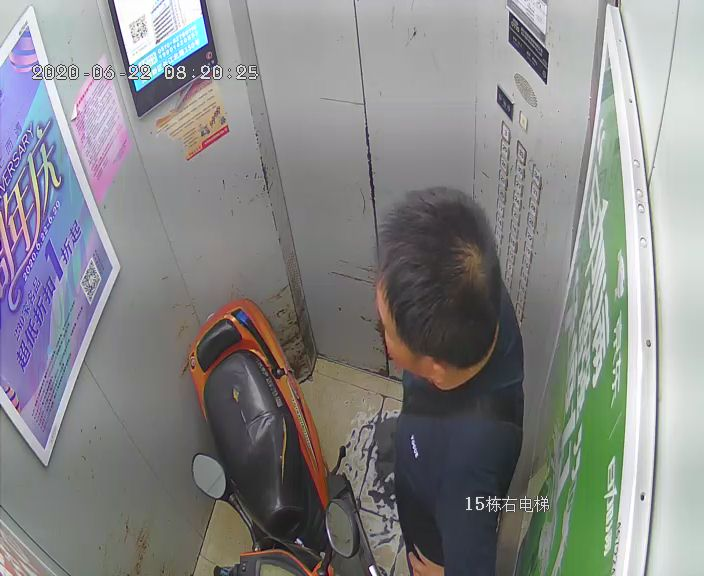Electric-bicycle: (176, 299, 382, 576)
